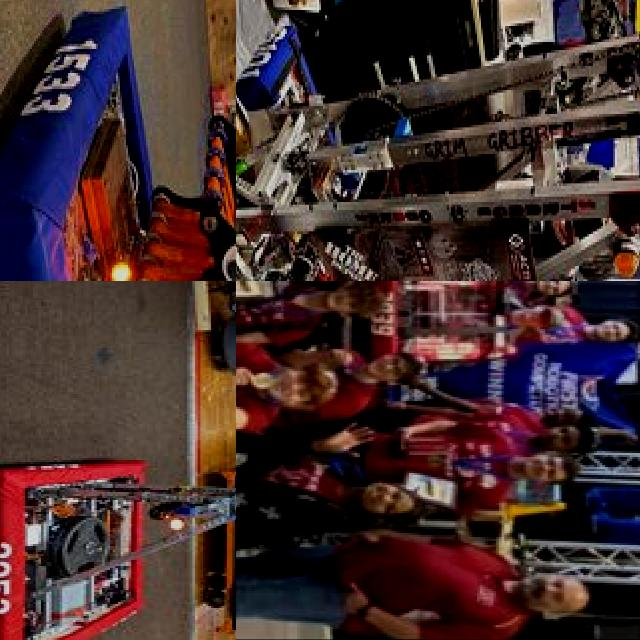FRC-Robots: (236, 0, 640, 281), (0, 281, 236, 640), (0, 5, 236, 281), (356, 281, 526, 396)
